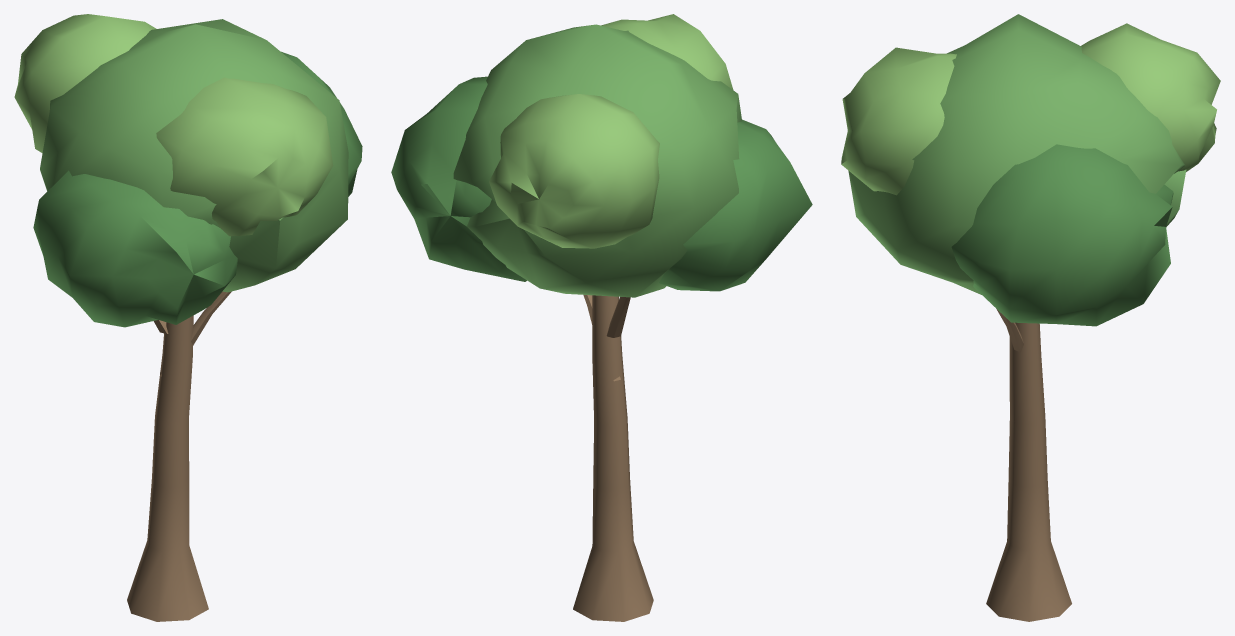
File: prop_tree_round.glb
3 renders of one model, left to right at view 1: azimuth 30°, elevation 25°; view 2: azimuth 150°, elevation 25°; view 3: azimuth 270°, elevation 25°, orthographic. The views are drawn at different scales.
Visible parts, largest first — view 1: prop_tree_round; view 2: prop_tree_round; view 3: prop_tree_round.
Part boxes in pixels (<box>): prop_tree_round: <box>14,14,362,621</box>; prop_tree_round: <box>391,14,812,621</box>; prop_tree_round: <box>841,14,1220,621</box>.
Size of what is drawn, in the model's own units: 3.23 by 5.28 by 3.1.
